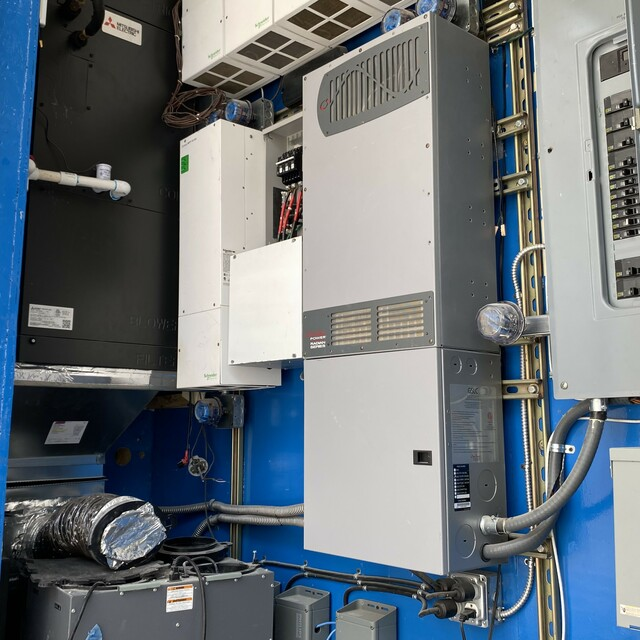inverter: (297, 14, 512, 589)
